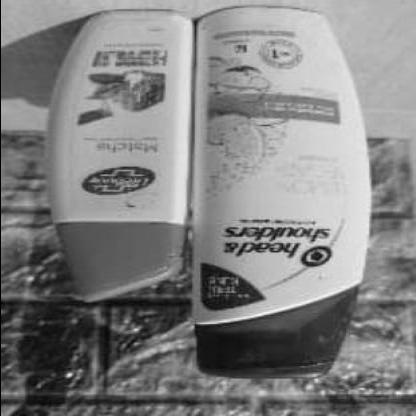objects: (189, 1, 369, 379), (54, 5, 194, 305)
